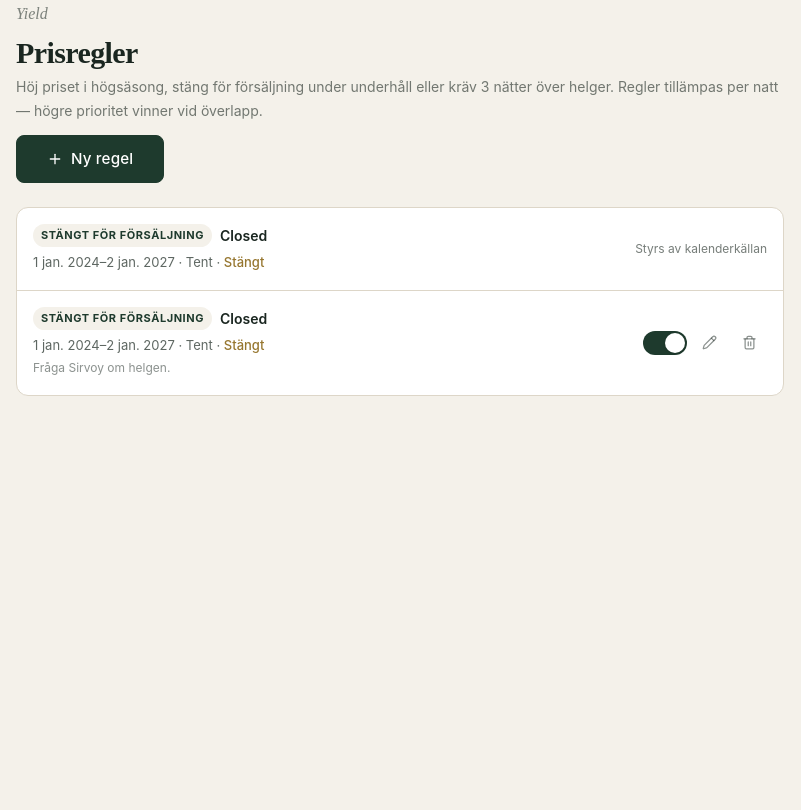
Test case: preserves ordinary or unrecognized notes in the list, editor and save: Fråga Sirvoy om helgen.
Later steps or results of the test are not shown.
Check: the text "Fråga Sirvoy om helgen." is shown, box [33,360,170,375]
Click the button titled "Redigera" at (709, 343), box [691,325,727,361]
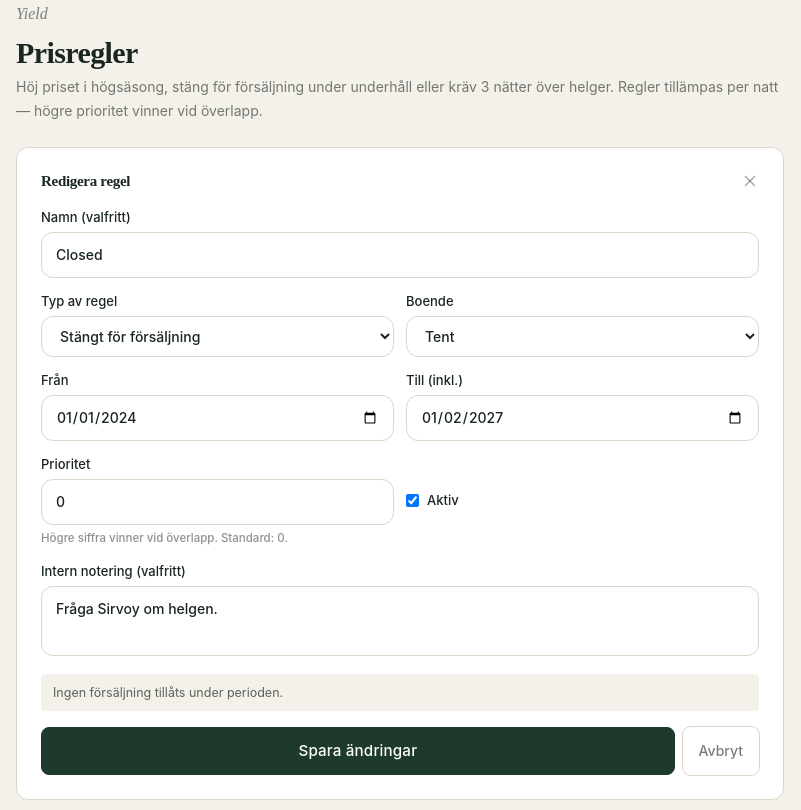
Check: the text box labelled "Intern notering (valfritt)" holds "Fråga Sirvoy om helgen.", box [41,586,759,656]
